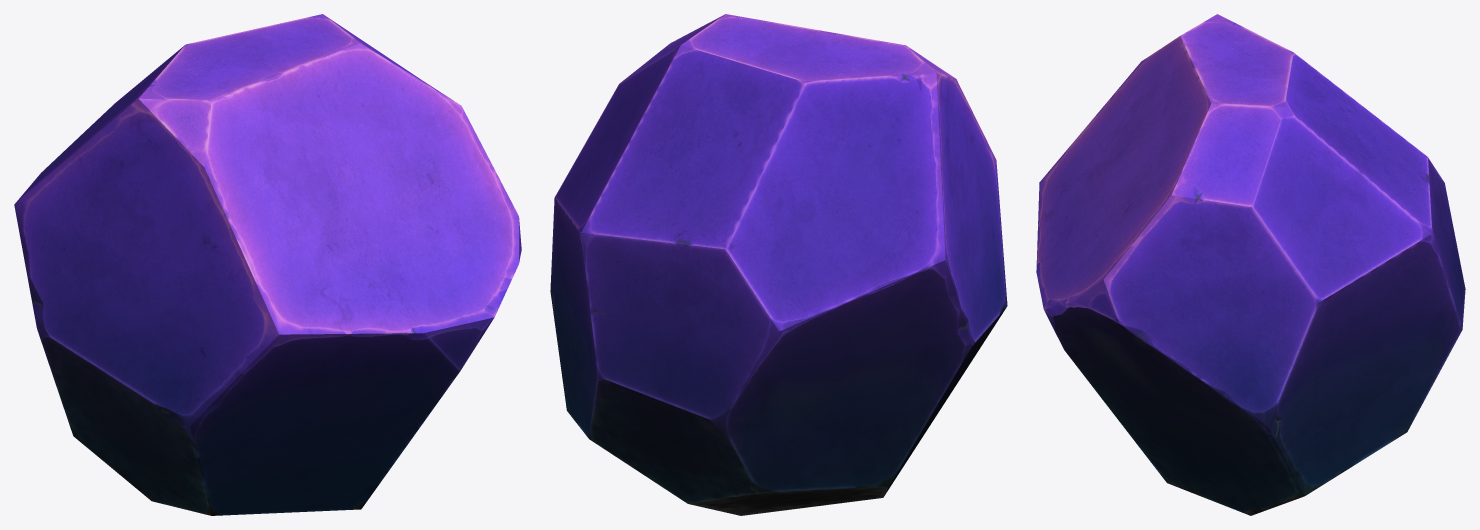
The model's file is S_rocks_06.glb.
3 views of the same model, side by side, from view 1: azimuth 30°, elevation 25°; view 2: azimuth 150°, elevation 25°; view 3: azimuth 270°, elevation 25° (orthographic). The views are drawn at different scales.
Visible parts, largest first — view 1: S_Rock_06; view 2: S_Rock_06; view 3: S_Rock_06.
Part boxes in pixels (x1,y1,x2,y2): S_Rock_06: (14, 14, 521, 515); S_Rock_06: (550, 14, 1007, 515); S_Rock_06: (1036, 14, 1465, 515).
Size of the model in its own units: 1.14 by 1.18 by 1.11.
1 material, 1 textured.
